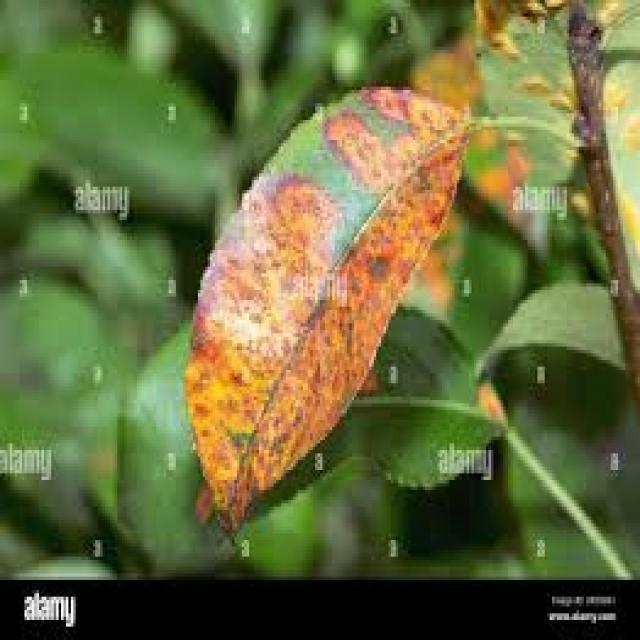leaf: (182, 83, 471, 534)
